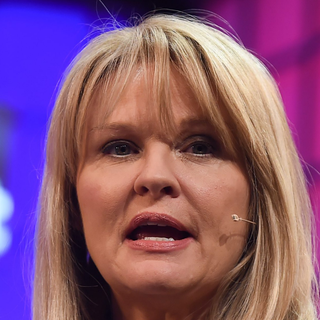eye: (172, 130, 228, 165), (94, 135, 149, 165)
